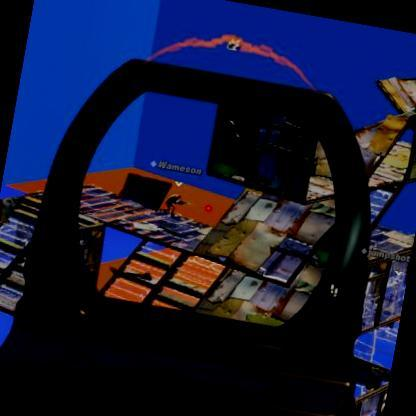person: (166, 190, 184, 216)
